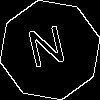N: (25, 25, 70, 78)
